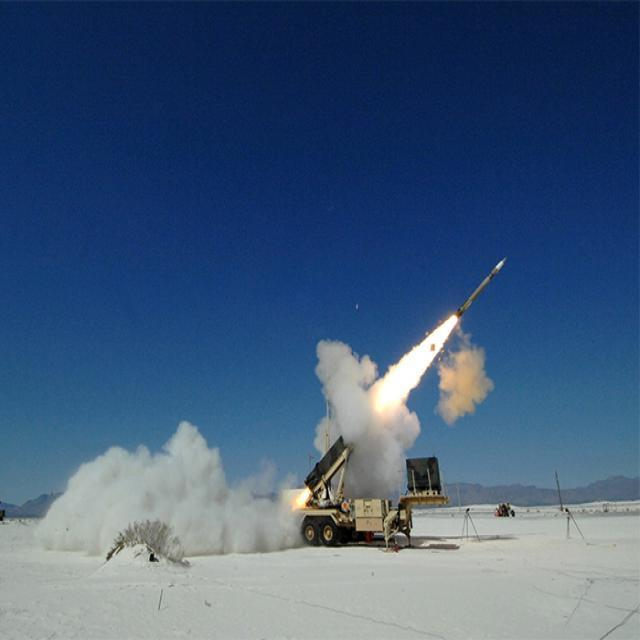missile: (452, 252, 517, 324)
